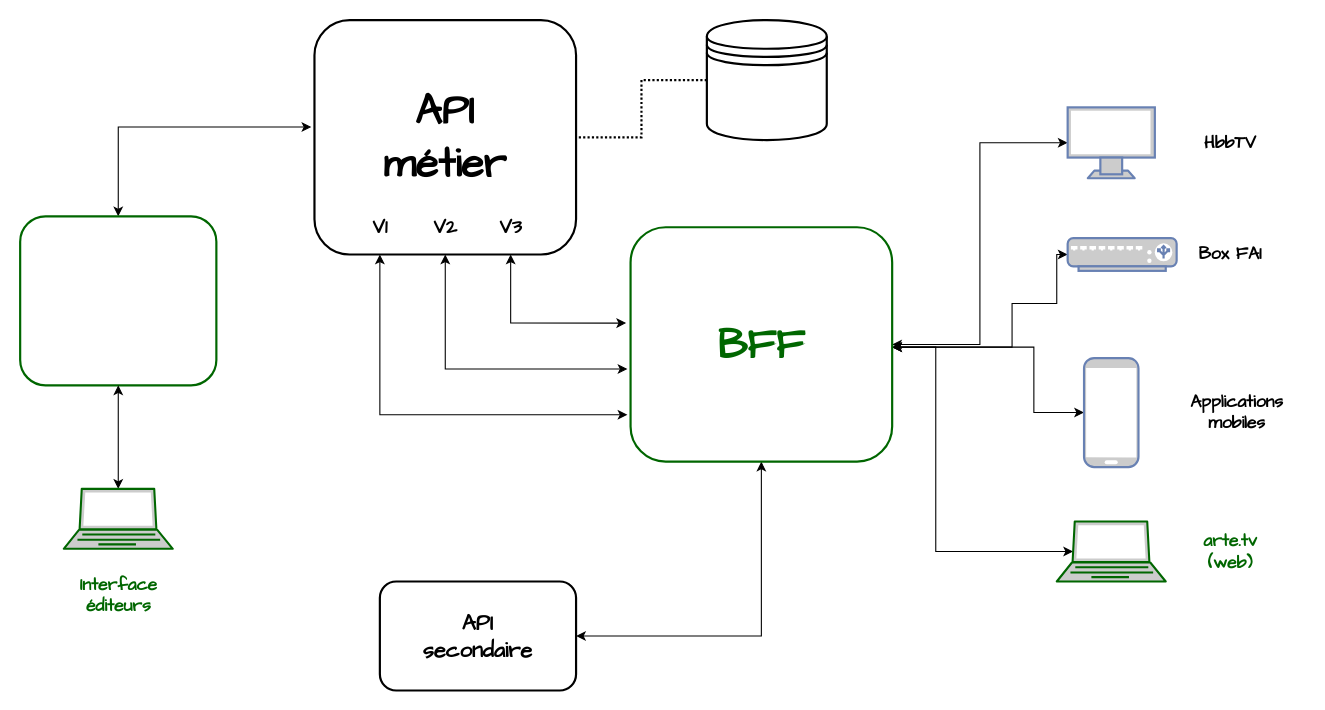
This 1325x710 diagram has some shape labels left out. Each missing label, with the box of its shape:
Base de données NoSQL: (705, 19, 827, 141)
CMS: (19, 215, 217, 386)
